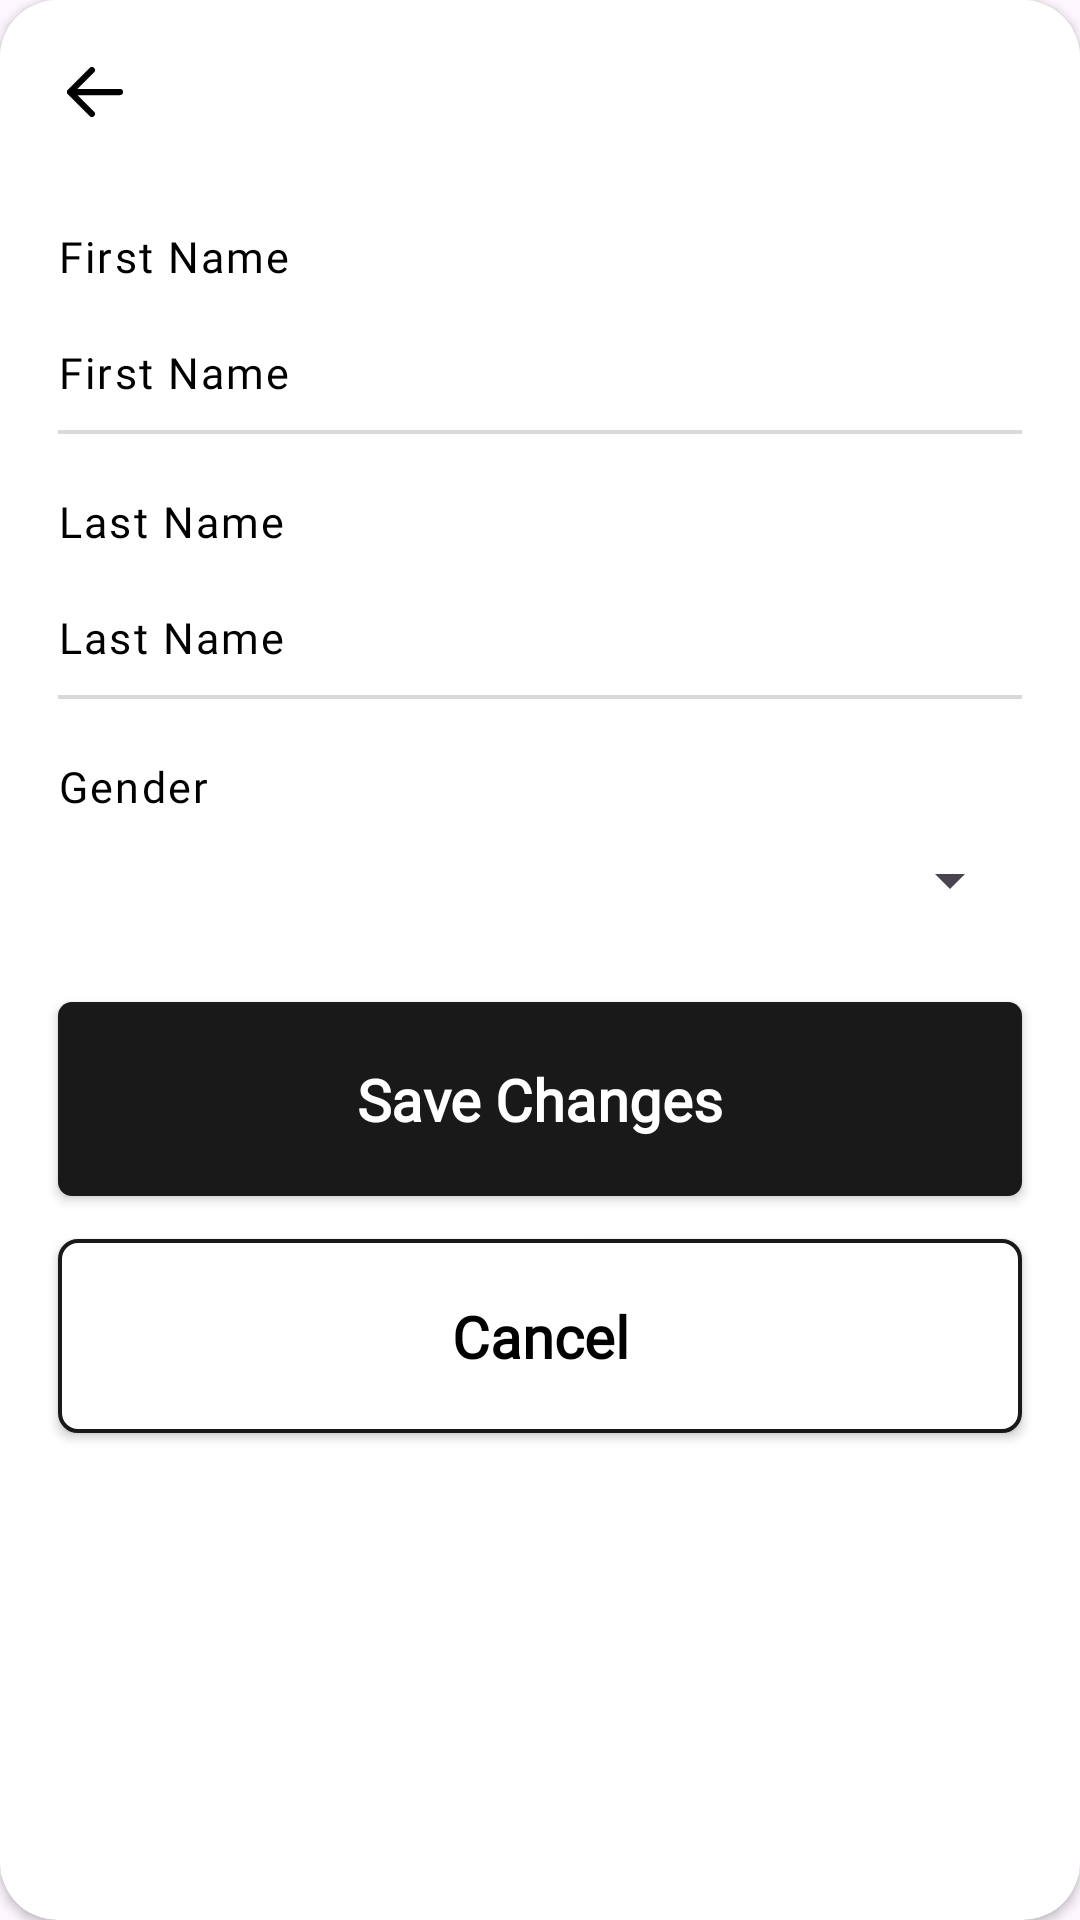

Icon click points for this 1080px×1920px phone screenshot, format (x,y):
back: (95,92)
